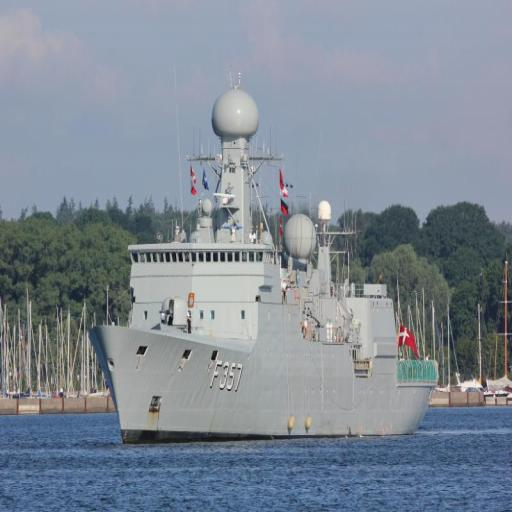Fragata: (84, 41, 446, 448)
